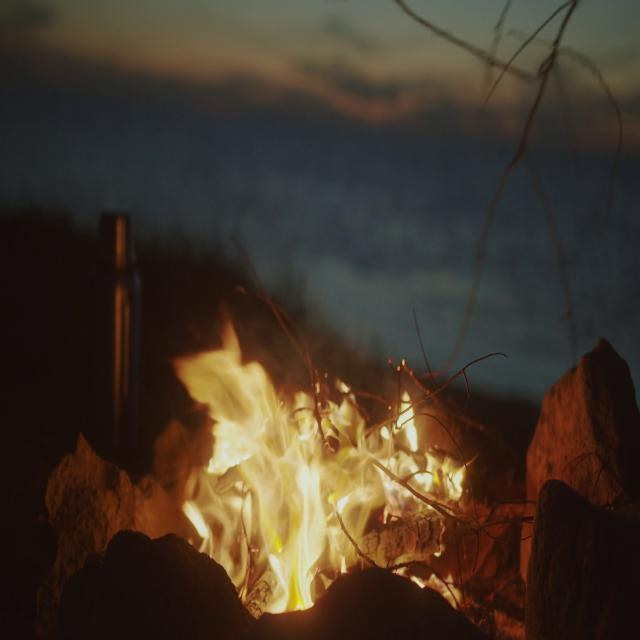Fire: (189, 356, 463, 616)
